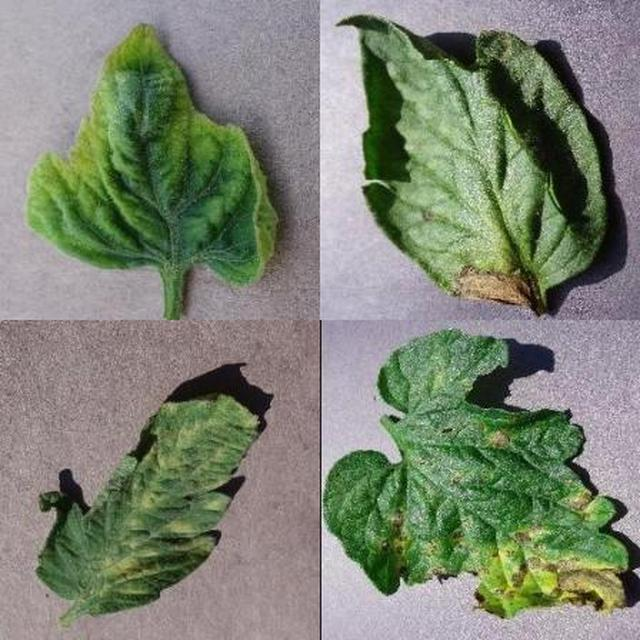Yellow Leaf Curl Virus: (213, 221, 640, 640)
